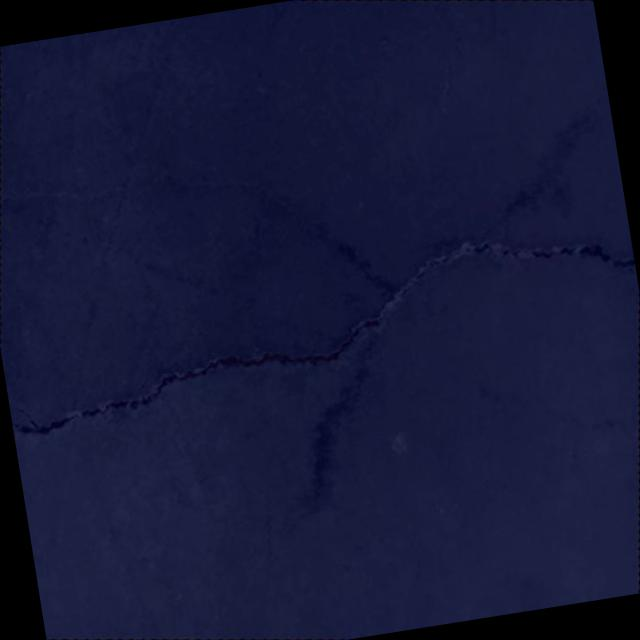crack: (0, 143, 640, 532)
